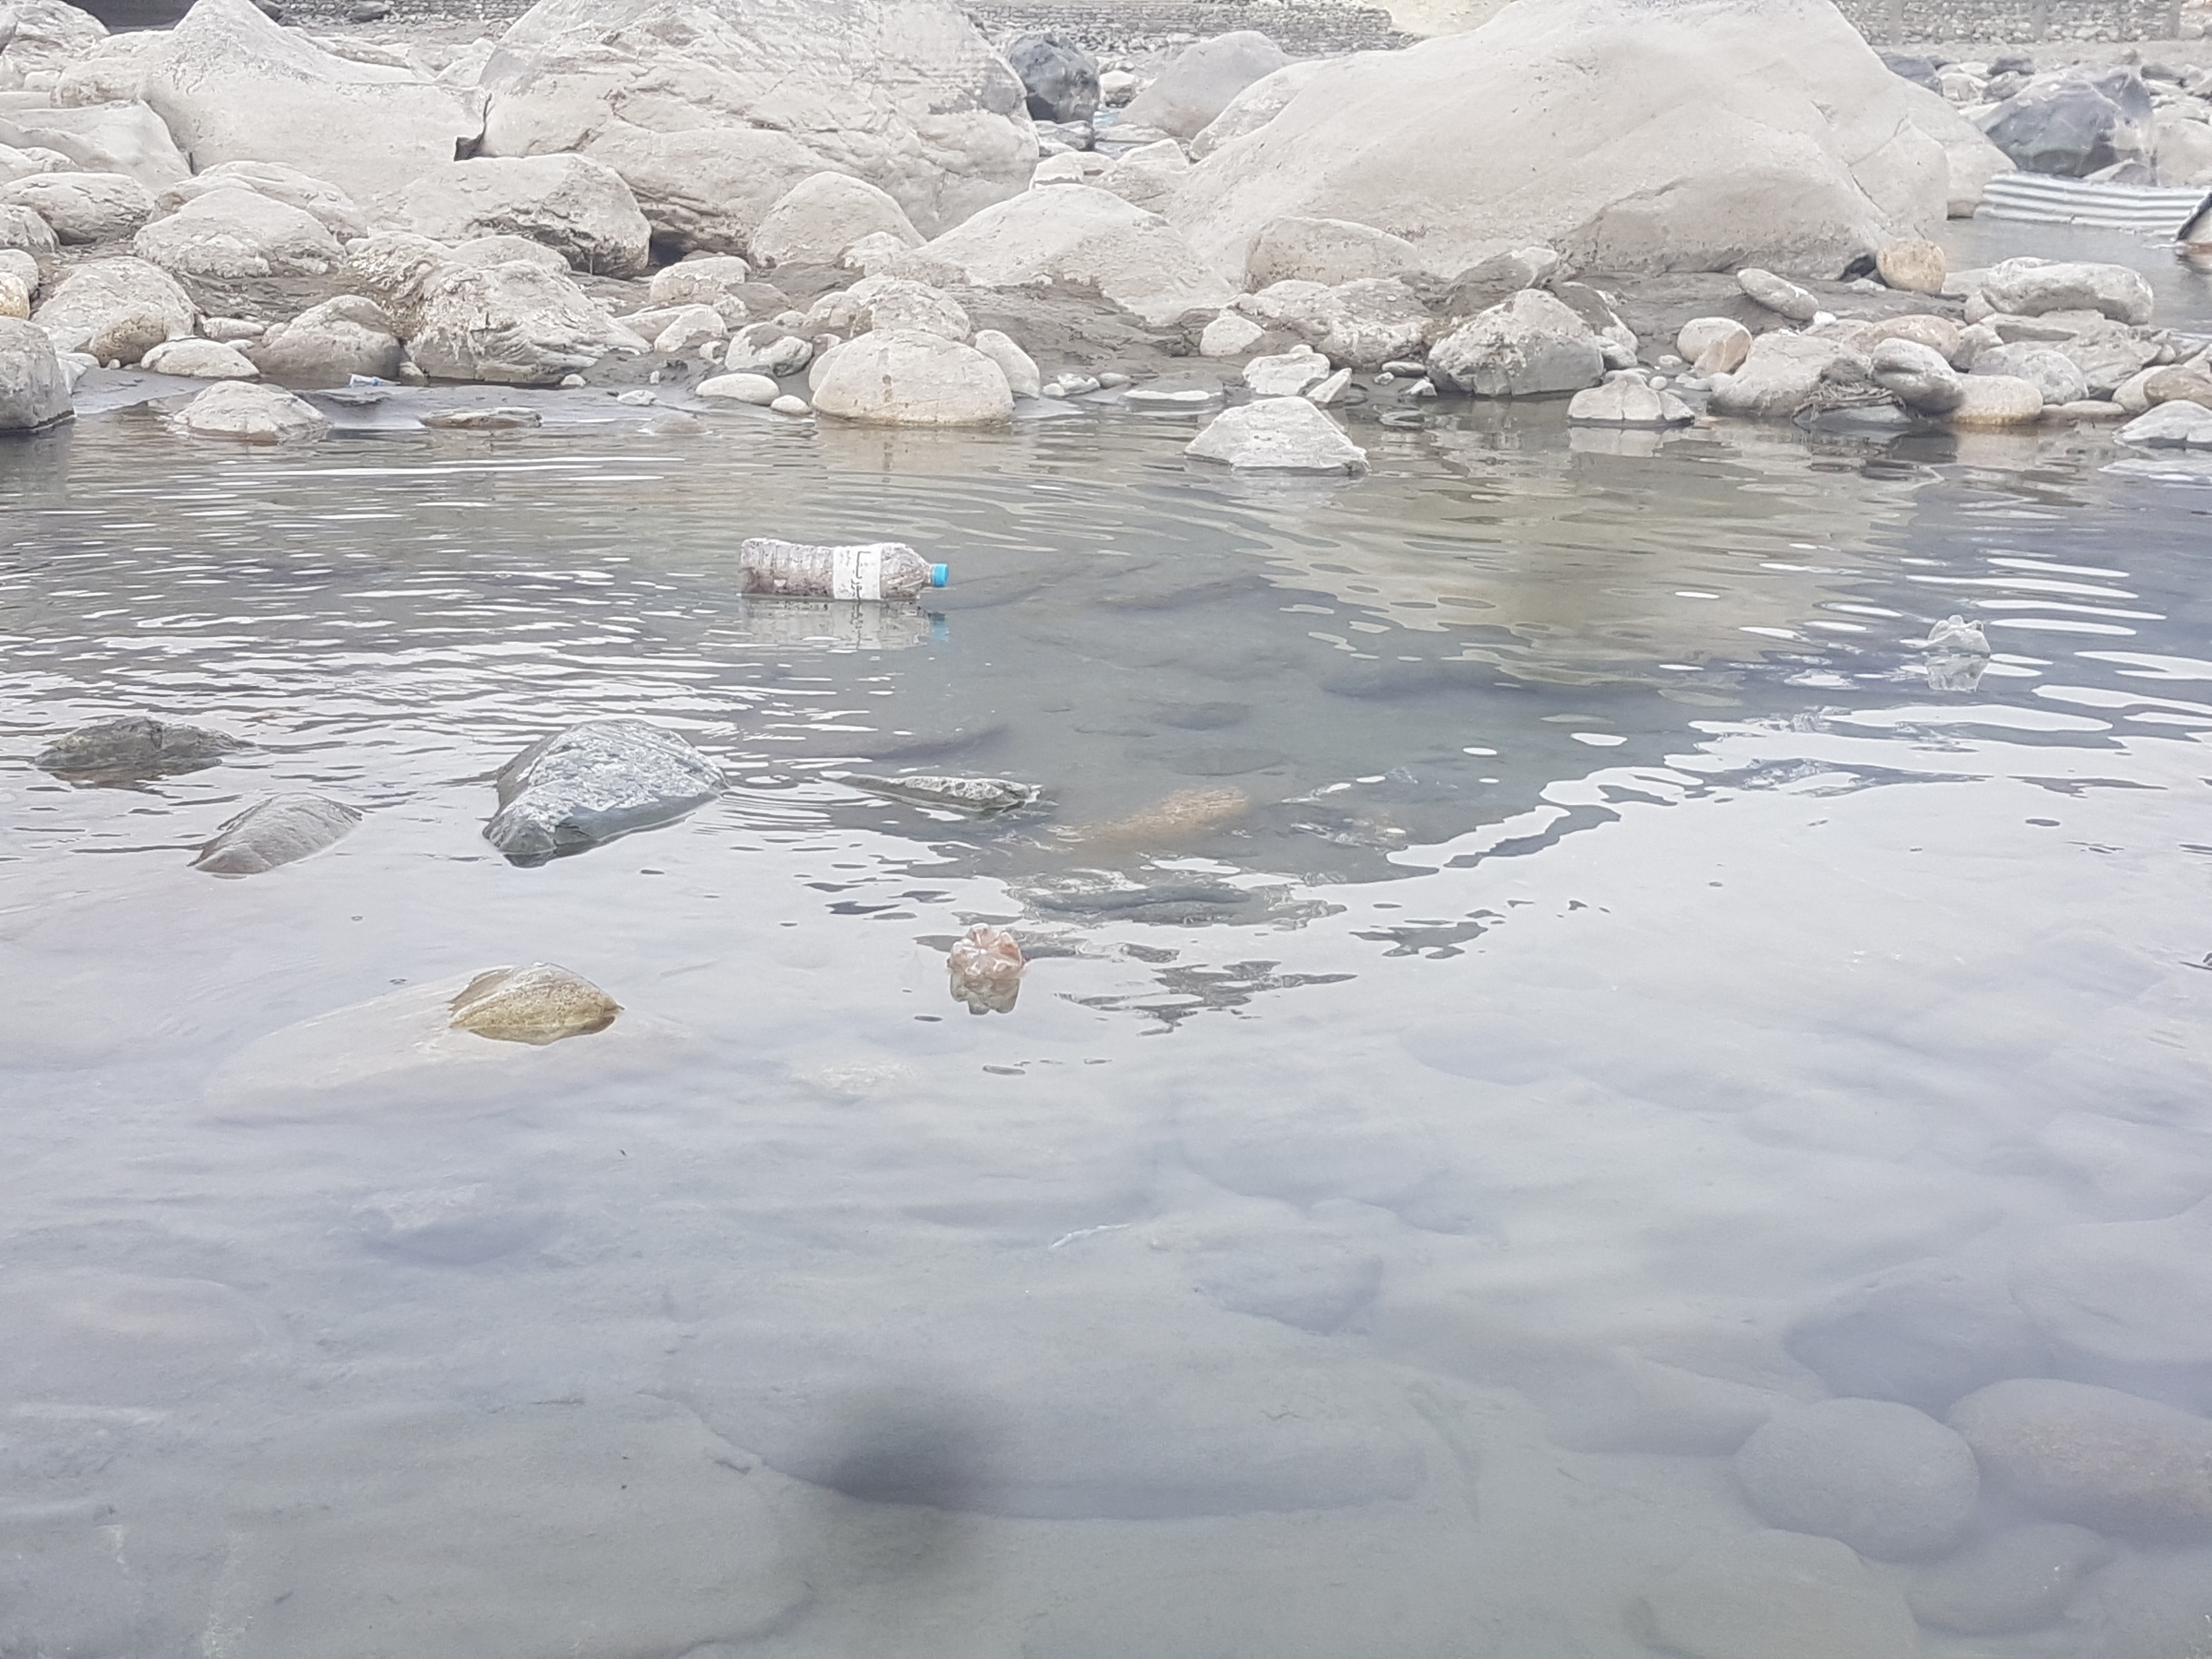Plastic Bottle: (740, 538, 949, 599), (949, 922, 1026, 978), (1928, 613, 1991, 652), (350, 373, 401, 387)
